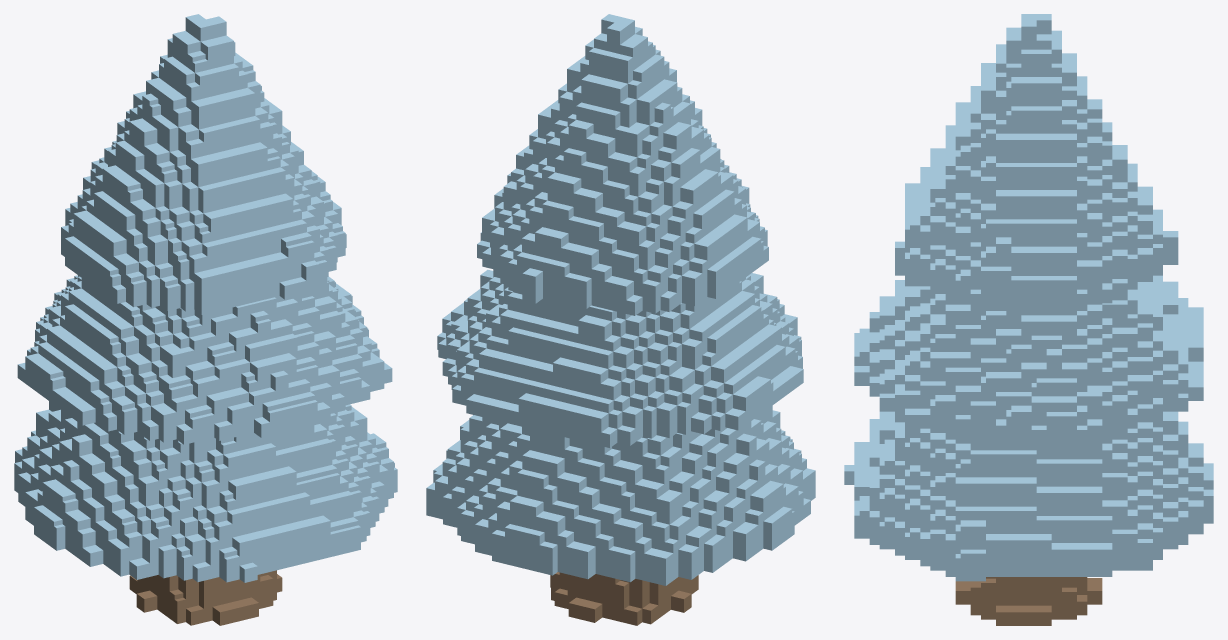
File: TreeWinter.obj
3 views of the same model, side by side, from view 1: azimuth 30°, elevation 25°; view 2: azimuth 150°, elevation 25°; view 3: azimuth 270°, elevation 25° (orthographic).
Parts seen in each view (by area): view 1: TreeWinter; view 2: TreeWinter; view 3: TreeWinter.
Part boxes in pixels (box(x1,y1,x2,y2)): TreeWinter: box(14, 14, 397, 625); TreeWinter: box(426, 14, 815, 625); TreeWinter: box(844, 14, 1213, 625).
Bounding box in the file's own units: 73 × 126 × 73.
